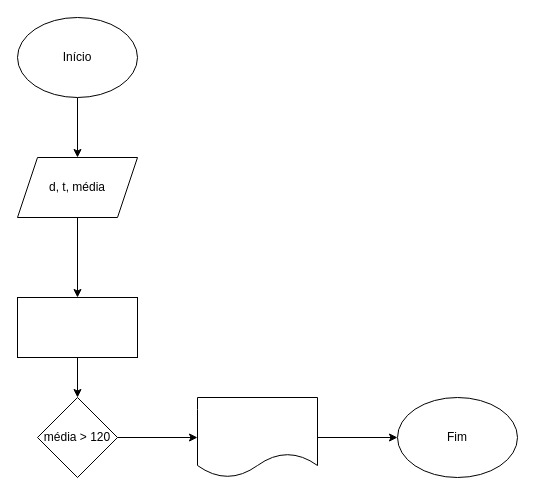
The diagram is 535 pixels wide and 495 high, and some of its shapes have lost their labels. The shapes that lost their labels are listed below. From the top down, each one's centre as x and y in pixels, then its label:
(x=77, y=327): média = d/t
(x=257, y=437): "multa"
